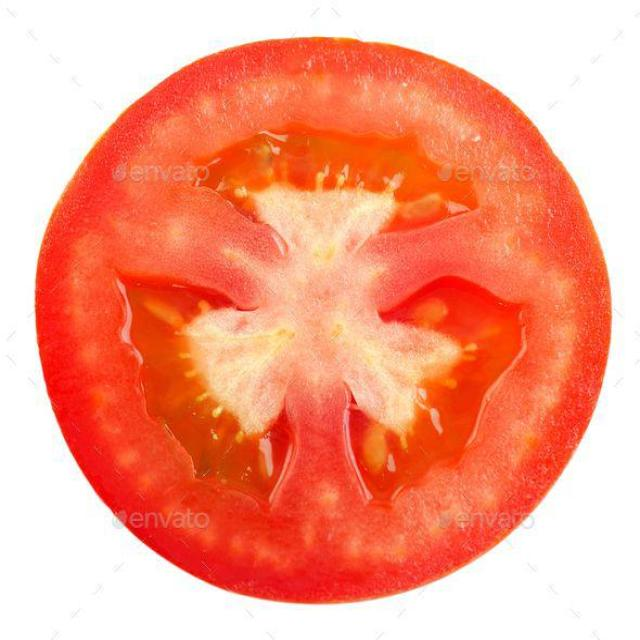Tomato: (32, 38, 611, 608)
